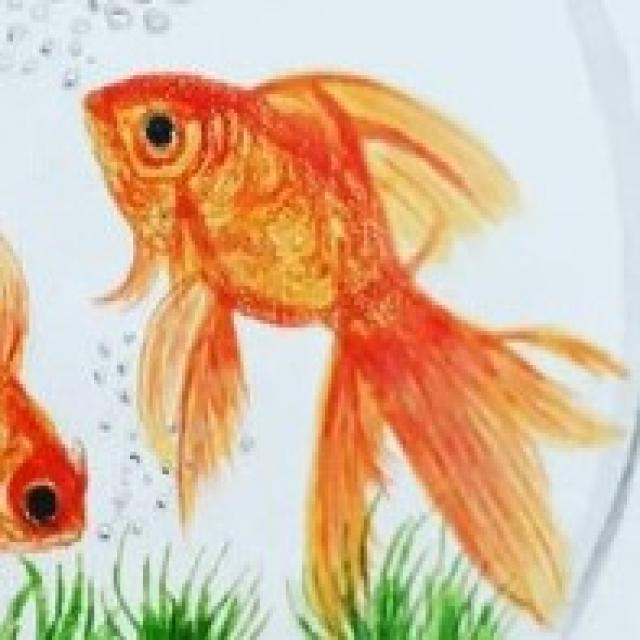Gold-Fish: (47, 28, 620, 596)
